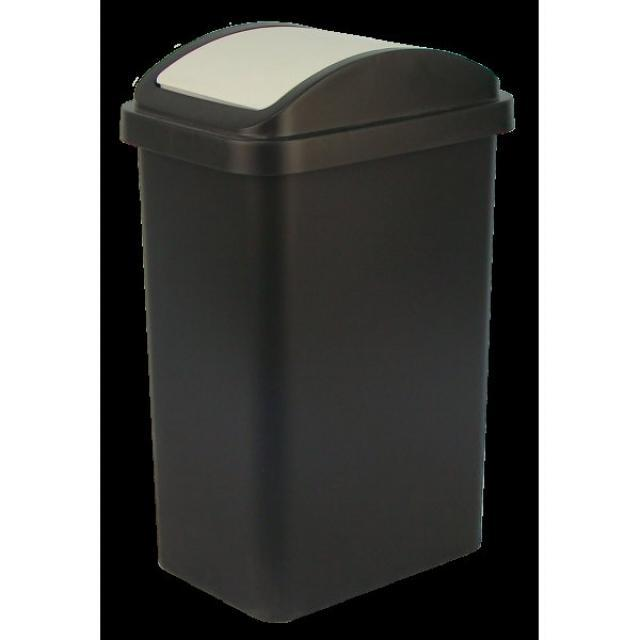Dumpster: (118, 14, 514, 631)
